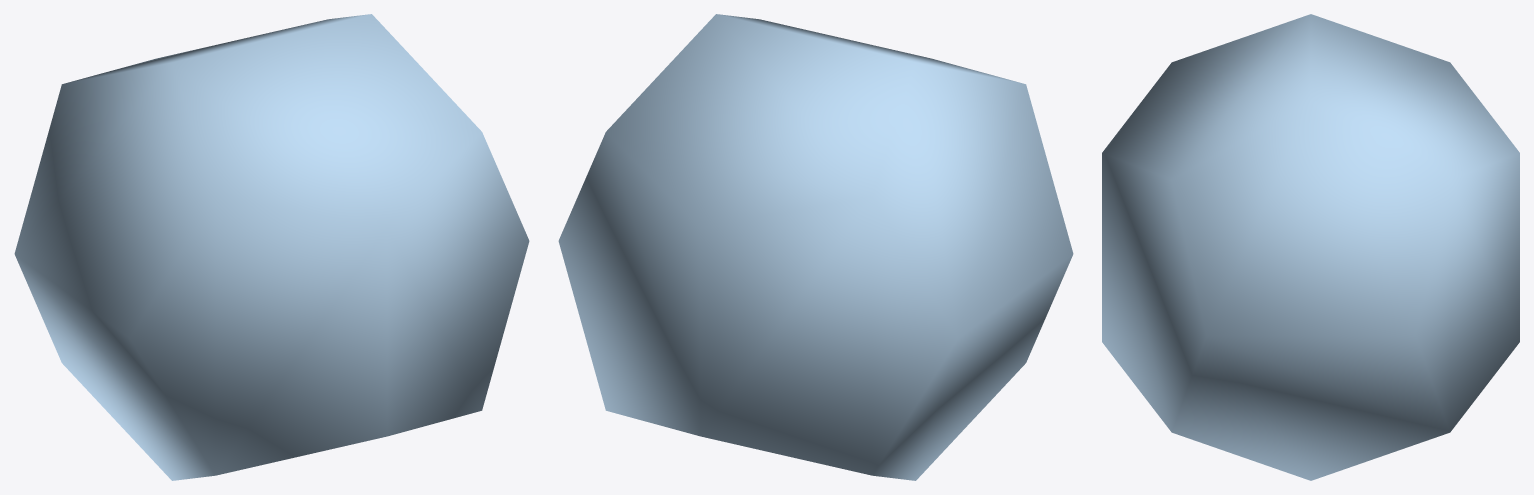
Rendered from pyrite-pyritohedron.glb.
3 renders of one model, left to right at view 1: azimuth 30°, elevation 25°; view 2: azimuth 150°, elevation 25°; view 3: azimuth 270°, elevation 25°, orthographic. The views are drawn at different scales.
Visible parts, largest first — view 1: pyrite-pyritohedron; view 2: pyrite-pyritohedron; view 3: pyrite-pyritohedron.
Boxes of the visible parts, bbox=[...] form: pyrite-pyritohedron: bbox=[14, 14, 529, 480]; pyrite-pyritohedron: bbox=[558, 14, 1073, 480]; pyrite-pyritohedron: bbox=[1102, 14, 1519, 480].
Size of the model in its own units: 2.24 by 2.24 by 2.24.
